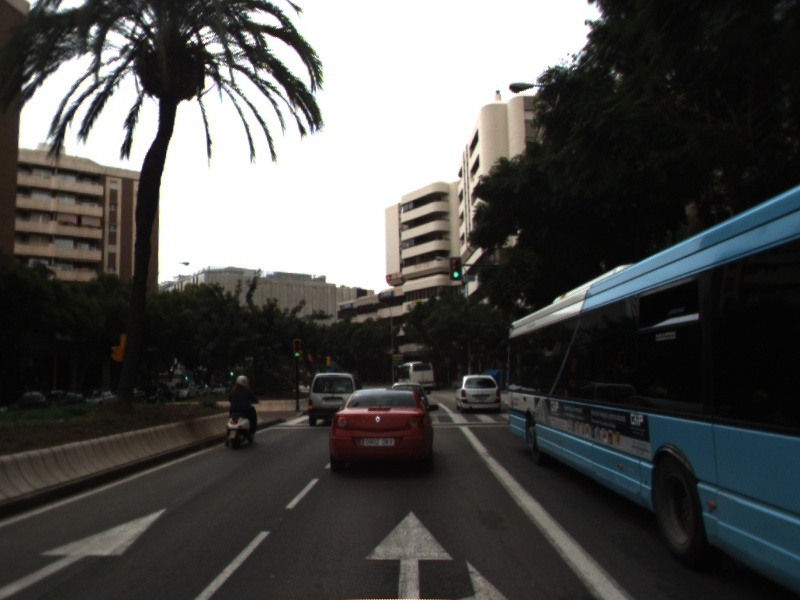STRAIGHT: (1, 503, 172, 600), (361, 507, 459, 600)
